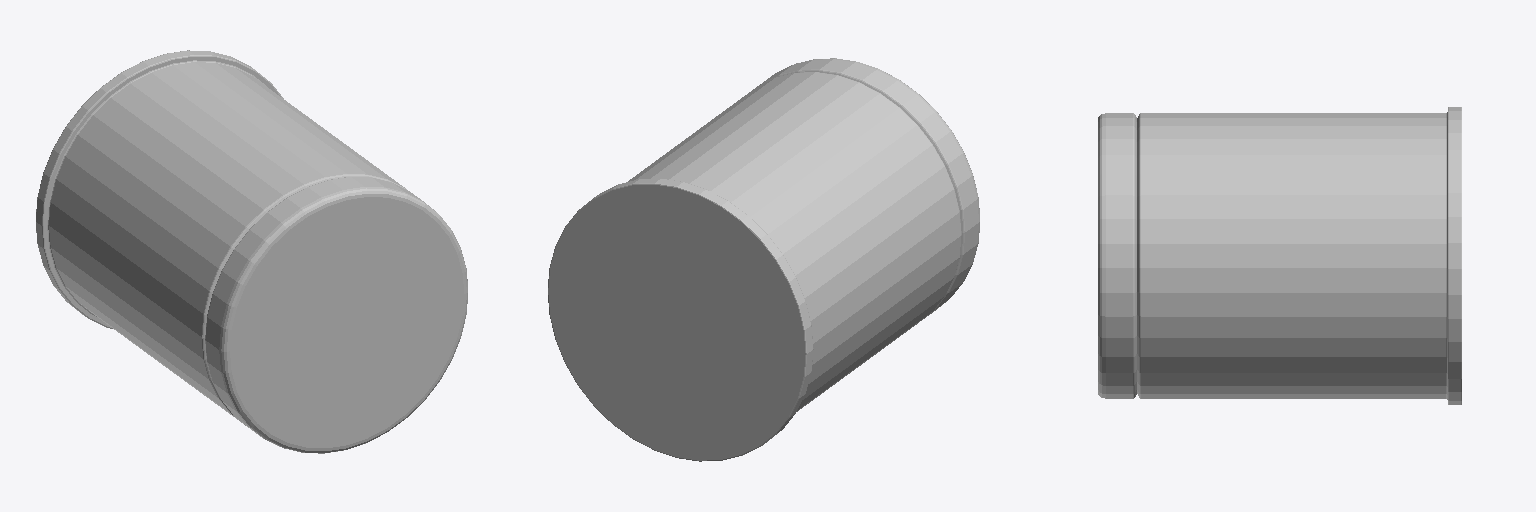
File: trashcan.obj
The picture shows the model from 3 angles: view 1: azimuth 30°, elevation 25°; view 2: azimuth 150°, elevation 25°; view 3: azimuth 270°, elevation 25°; orthographic projection.
Parts seen in each view (by area): view 1: trashcan; view 2: trashcan; view 3: trashcan.
Boxes of the visible parts, box(x1,y1,x2,y2) form: trashcan: box(36, 50, 467, 453); trashcan: box(548, 58, 979, 461); trashcan: box(1098, 107, 1461, 404).
Bounding box in the file's own units: 109 × 109 × 132.